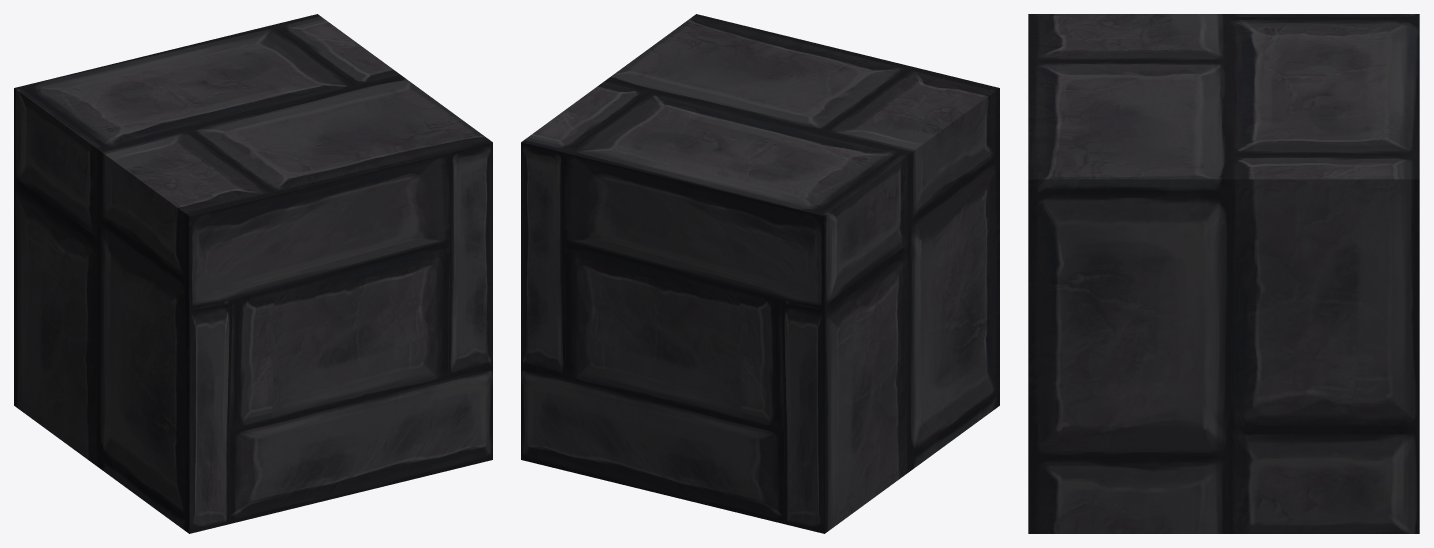
The model's file is interiorWall_1x1.dae.
The picture shows the model from 3 angles, left to right: view 1: azimuth 30°, elevation 25°; view 2: azimuth 150°, elevation 25°; view 3: azimuth 270°, elevation 25°; orthographic projection. The views are drawn at different scales.
Visible parts, largest first — view 1: Cube_002; view 2: Cube_002; view 3: Cube_002.
Part boxes in pixels (x1,y1,x2,y2): Cube_002: [14, 14, 492, 533]; Cube_002: [521, 14, 999, 533]; Cube_002: [1028, 14, 1419, 533].
Size of the model in its own units: 2 by 2 by 2.
1 material, 1 textured.
